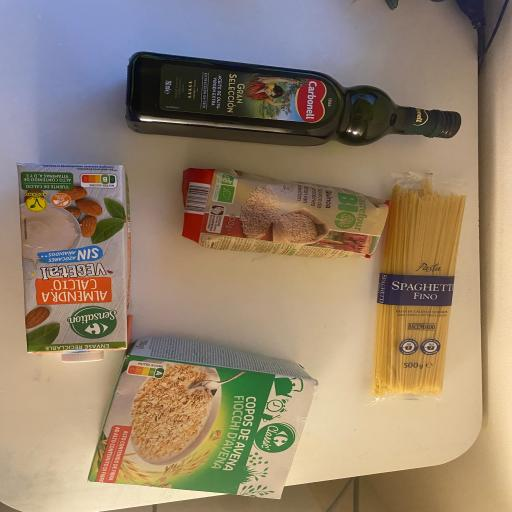almond_milk: (13, 159, 136, 365)
oats: (81, 338, 304, 502)
olive_oil: (124, 50, 465, 154)
quinoa: (171, 160, 387, 268)
spaghetti: (367, 178, 466, 401)
